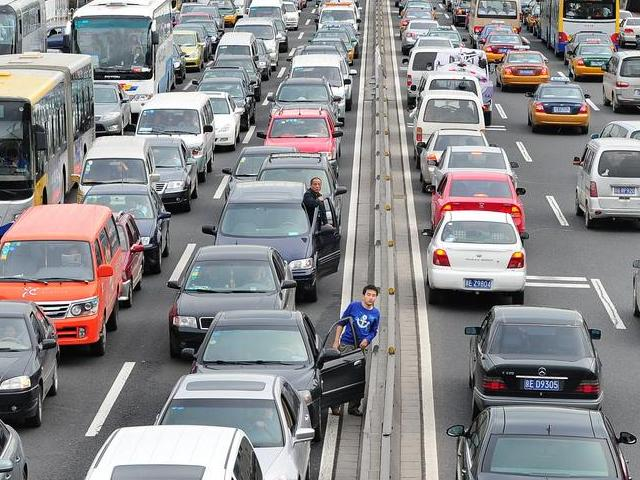bus: (0, 48, 91, 216), (63, 0, 171, 92), (542, 0, 621, 51), (0, 0, 44, 75), (194, 0, 254, 17), (125, 0, 189, 11)
